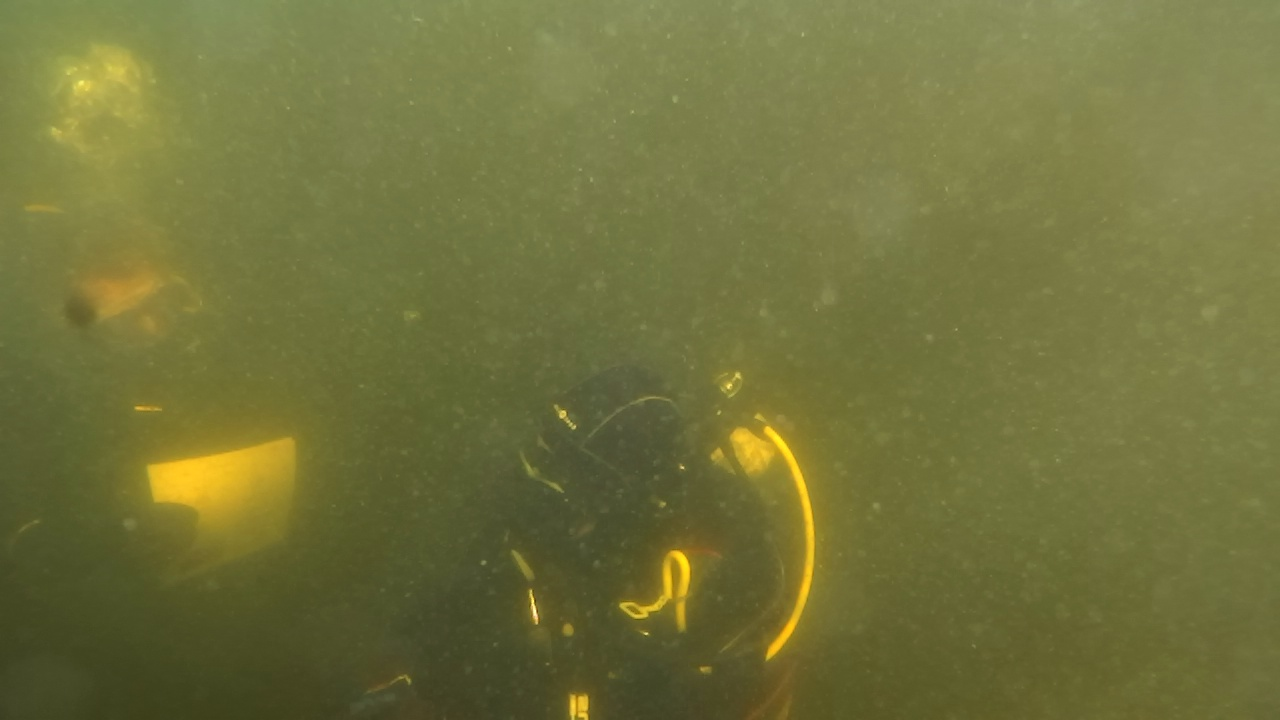Diver: (330, 308, 926, 712), (20, 202, 348, 662)
Head: (498, 348, 710, 518)
